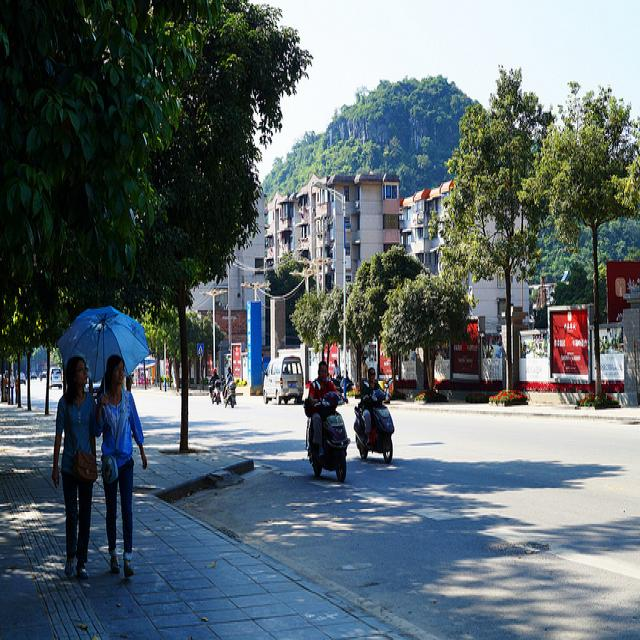motor: (305, 391, 351, 482), (353, 388, 394, 464), (329, 364, 354, 393), (224, 380, 237, 409), (212, 379, 221, 406)
